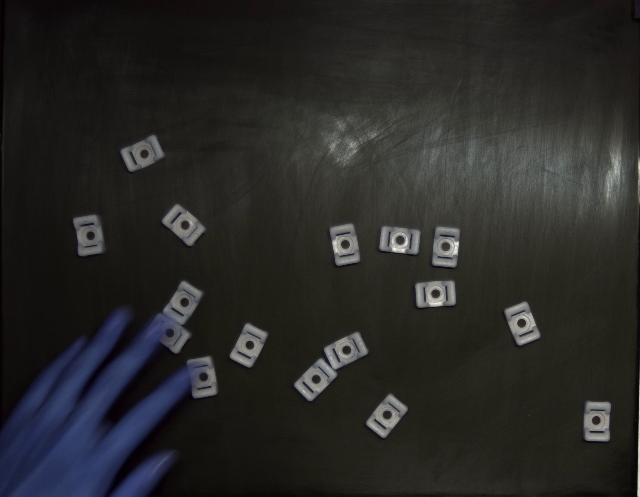first_side: (366, 394, 408, 439), (294, 359, 338, 401), (162, 205, 206, 246), (164, 281, 204, 325), (230, 324, 269, 369), (324, 332, 369, 370), (121, 135, 165, 172), (504, 301, 540, 346), (186, 356, 219, 399), (72, 215, 105, 256), (330, 224, 360, 266), (431, 226, 460, 269), (379, 226, 421, 255), (415, 281, 456, 309), (584, 401, 611, 442)
